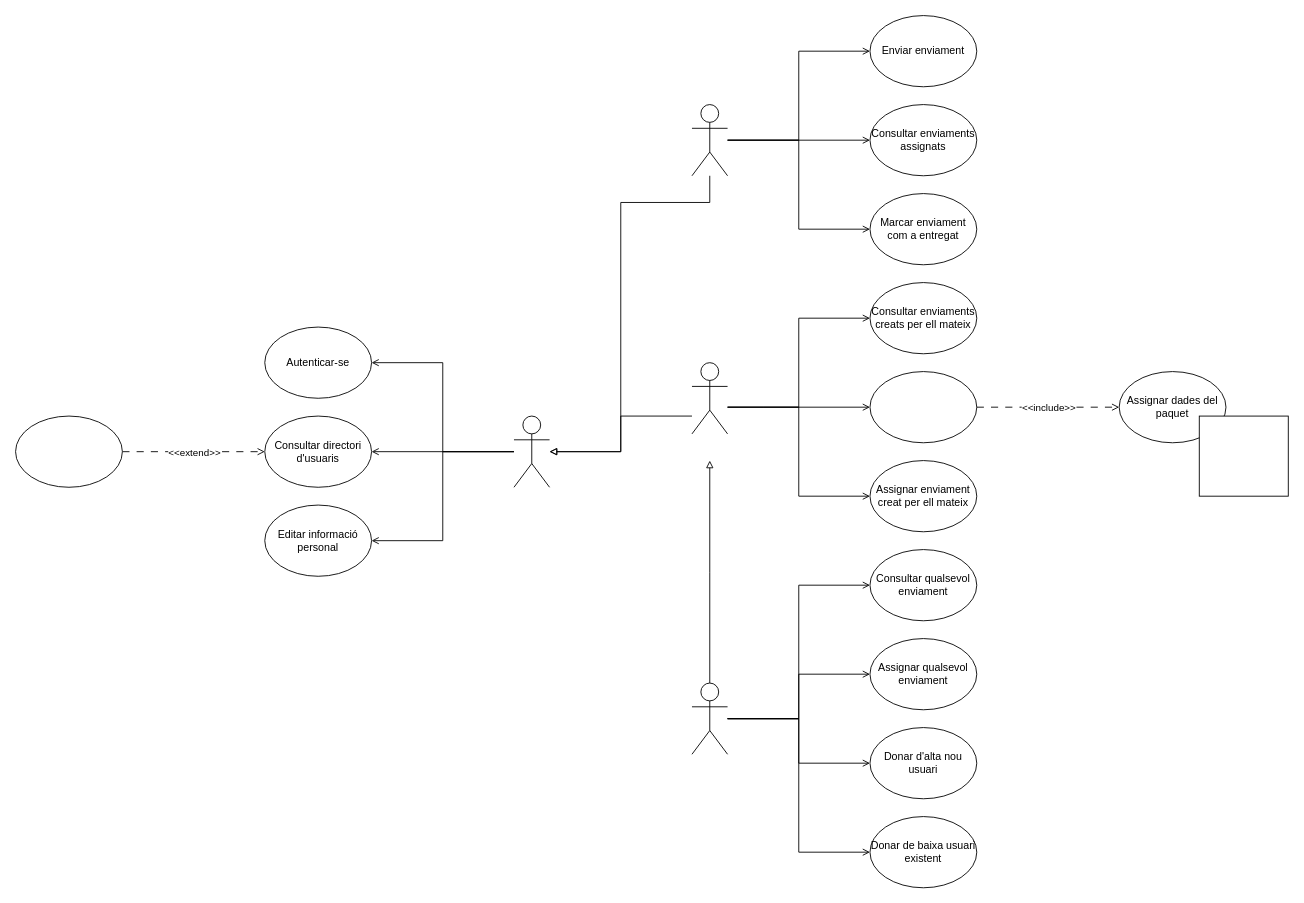
This 1304x903 diagram has some shape labels left out. Each missing label, with the centre of its shape:
"Crear enviament" goes at (923,407).
"Dimensions Categoria Fràgil Express Nº Seguiment" goes at (1243,455).
"Filtrar informació" goes at (68,451).
"Missatger" goes at (709,140).
"Recepcionista" goes at (709,398).
"Responsable de logística" goes at (709,718).
"Usuari" goes at (531,451).
